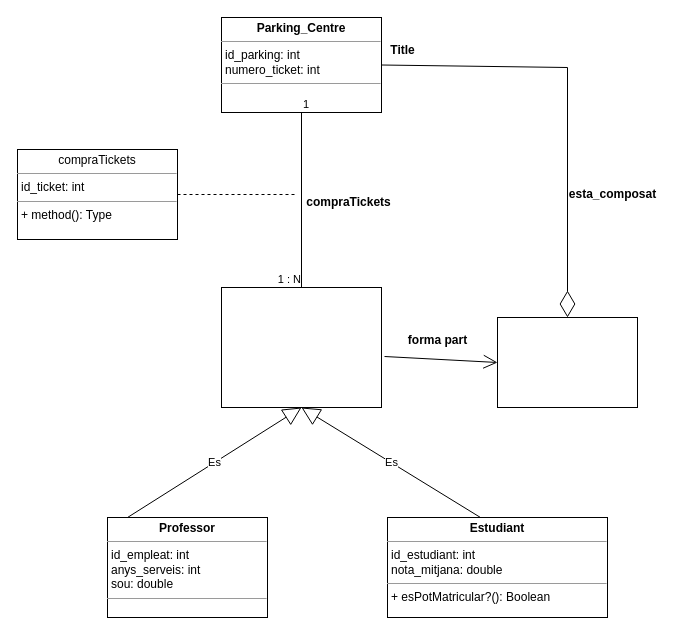
The diagram is 673 pixels wide and 635 high, and some of its shapes have lost their labels. Each missing label, with the centre of its shape:
Centre id_centre: int: [567,362]
Persona + nom: String num_telefon: int email: String + imprimir_adreça(): String: [301,347]
